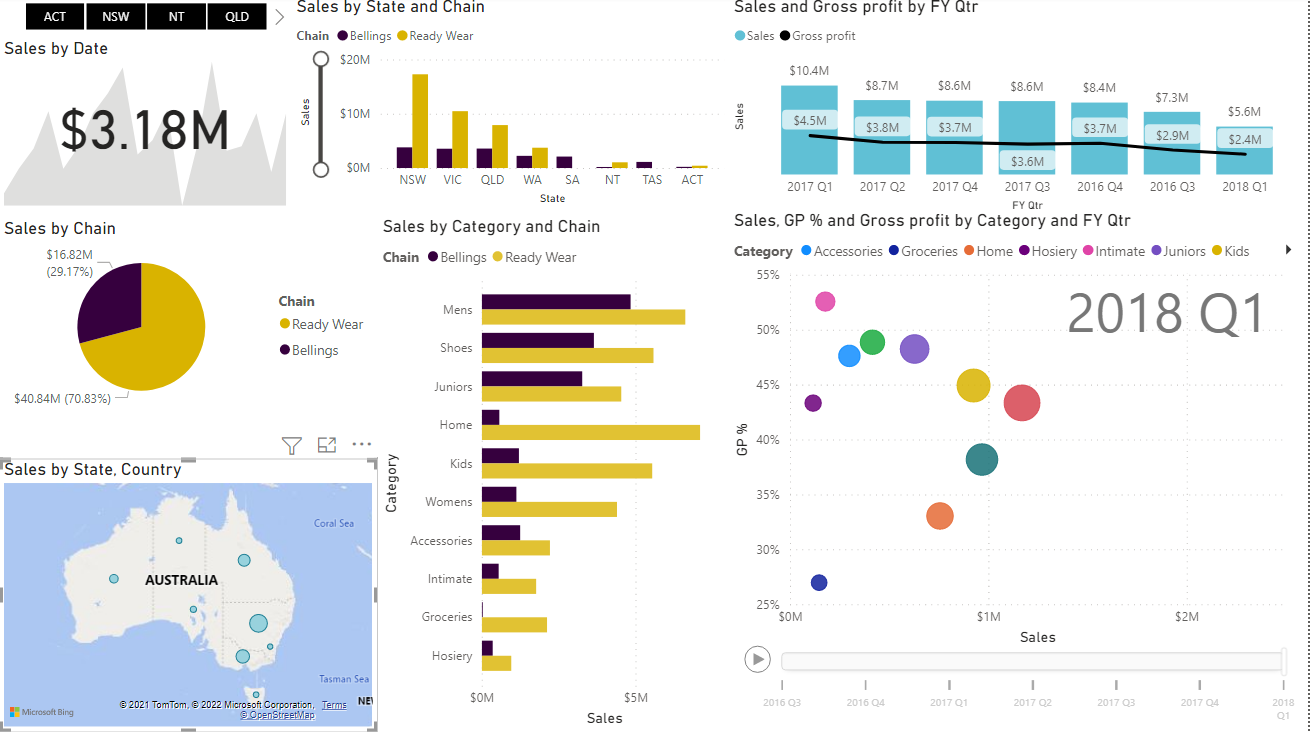

What the dashboard file says about the page in this screenshot:
{"tool":"powerbi","page":{"name":"Summary","canvas":[1280,720],"ordinal":0},"visuals":[{"type":"kpi","fields":{"Indicator":["Sum(Sales.Sales)"],"TrendLine":["Dates.Date"]},"box":[0,39.8,285.8,170.1],"z":0},{"type":"clusteredColumnChart","fields":{"Y":["Sum(Sales.Sales)"],"Category":["Regions.State"],"Series":["Sales.Chain"]},"box":[285.6,0,428.4,209.3],"z":1000},{"type":"lineClusteredColumnComboChart","fields":{"Category":["Dates.FY Qtr"],"Y":["Sum(Sales.Sales)"],"Y2":["Sum(Sales.Gross profit)"]},"box":[713.9,0,566.3,215.4],"z":2000},{"type":"pieChart","fields":{"Y":["Sum(Sales.Sales)"],"Category":["Sales.Chain"]},"box":[0,215.9,370.3,195.4],"z":3000},{"type":"map","fields":{"Category":["Regions.State, Country"],"Size":["Sum(Sales.Sales)"]},"box":[0,452.6,370.3,267.4],"z":4000},{"type":"clusteredBarChart","fields":{"Y":["Sum(Sales.Sales)"],"Category":["Sales.Category"],"Series":["Sales.Chain"]},"box":[370.3,215.4,359.4,504.6],"z":5000},{"type":"scatterChart","fields":{"X":["Sum(Sales.Sales)"],"Series":["Sales.Category"],"Y":["Sales.GP %"],"Size":["Sum(Sales.Gross profit)"],"Play":["Dates.FY Qtr"]},"box":[713.9,209.3,566.3,510.7],"z":6000},{"type":"slicer","fields":{"Values":["Regions.State"]},"box":[0,0,285.8,39.8],"z":7000}]}

Visuals, with their boxes in screenshot pixels (x1, y1, x2, y2), scaled from the page's 1280x720 canvas onto the 1310x732 screenshot:
kpi - Sum(Sales.Sales) x Dates.Date: box(0, 40, 292, 213)
clusteredColumnChart - Sum(Sales.Sales) x Regions.State: box(292, 0, 731, 213)
lineClusteredColumnComboChart - Dates.FY Qtr x Sum(Sales.Sales): box(731, 0, 1309, 219)
pieChart - Sum(Sales.Sales) x Sales.Chain: box(0, 219, 379, 418)
map - Regions.State, Country x Sum(Sales.Sales): box(0, 460, 379, 731)
clusteredBarChart - Sum(Sales.Sales) x Sales.Category: box(379, 219, 747, 731)
scatterChart - Sum(Sales.Sales) x Sales.Category: box(731, 213, 1309, 731)
slicer - Regions.State: box(0, 0, 292, 40)
